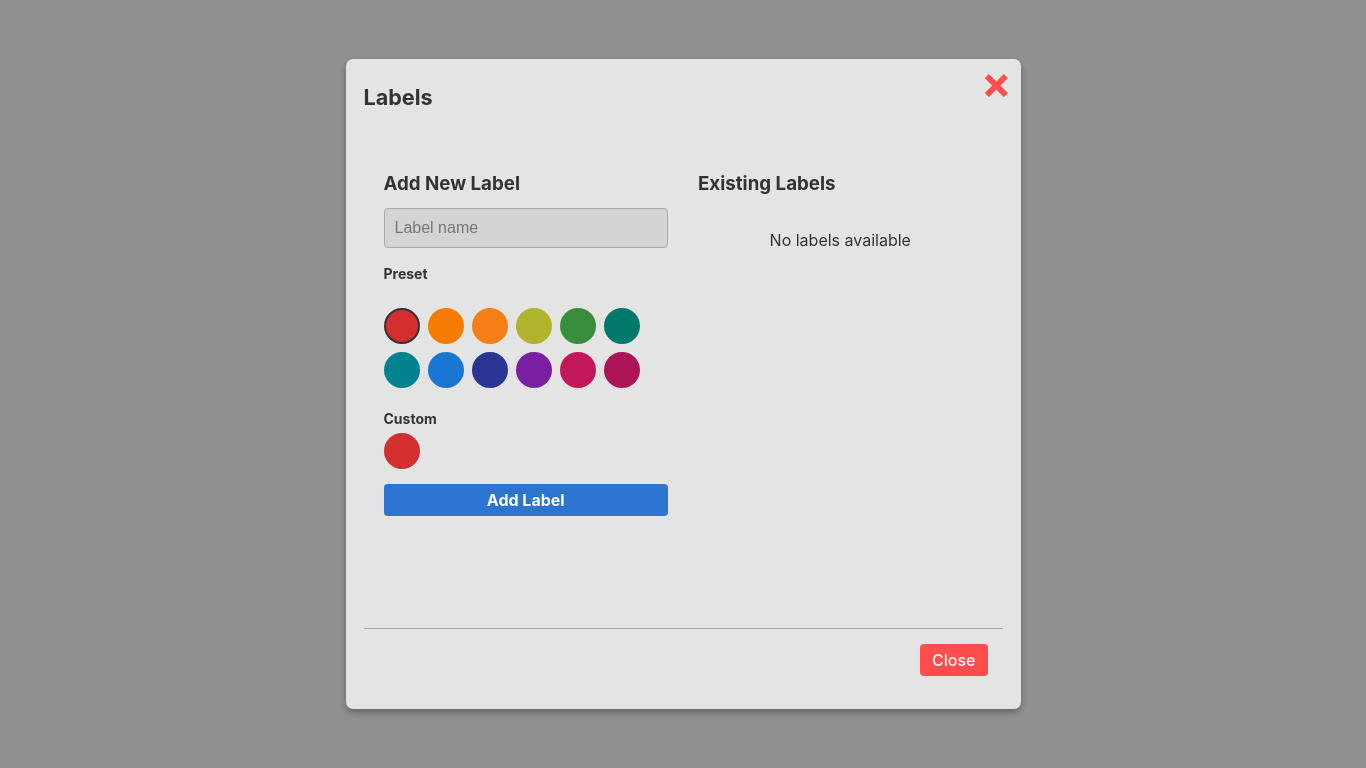
it: LabelsModal - Integration Tests › Creating a label › should display error message when trying to create a label with empty field
The width and height of the screenshot is (1366, 768).
Expected: the field with placeholder "Label name" is empty, x1=384 y1=208 x2=668 y2=248
Click the button "Add Label".
click(526, 500)  # box x1=384 y1=484 x2=668 y2=516
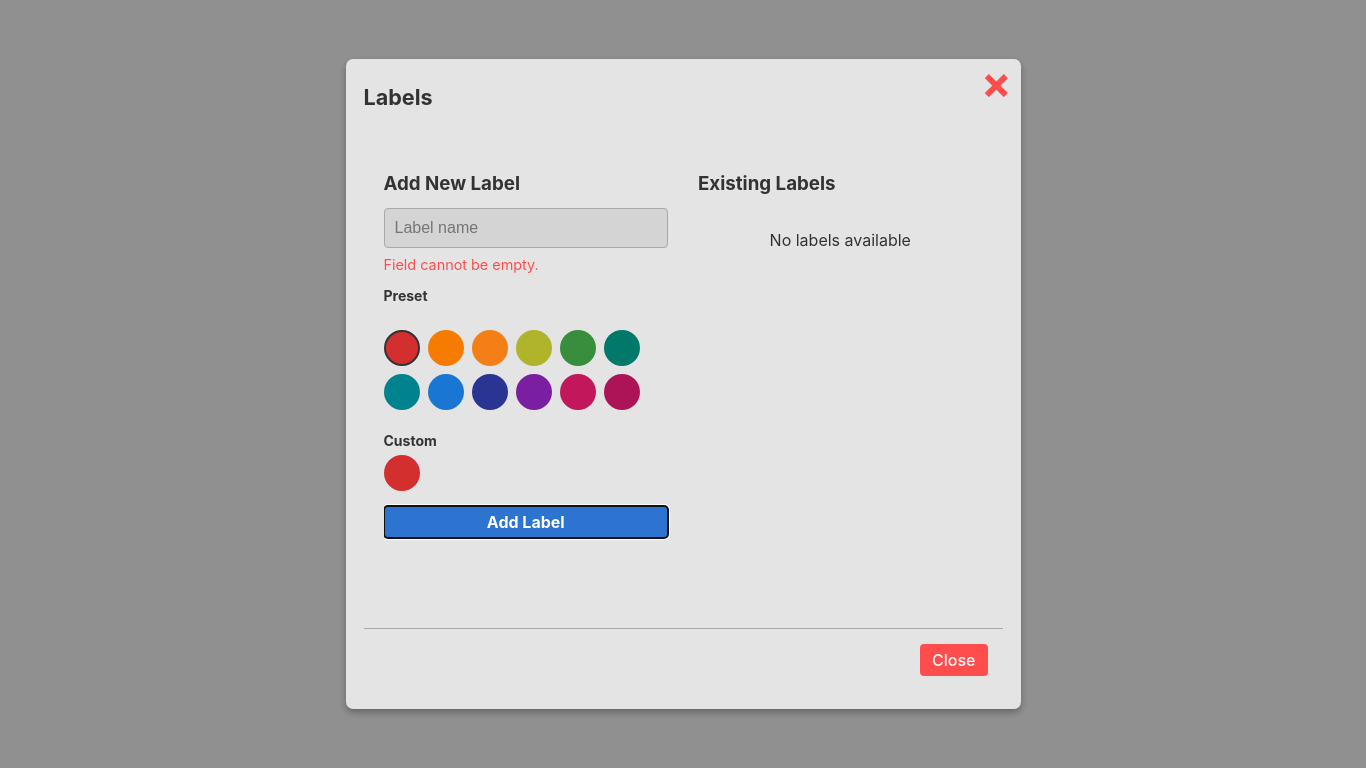
Expected: the text "Field cannot be empty." is shown, x1=384 y1=256 x2=539 y2=273
